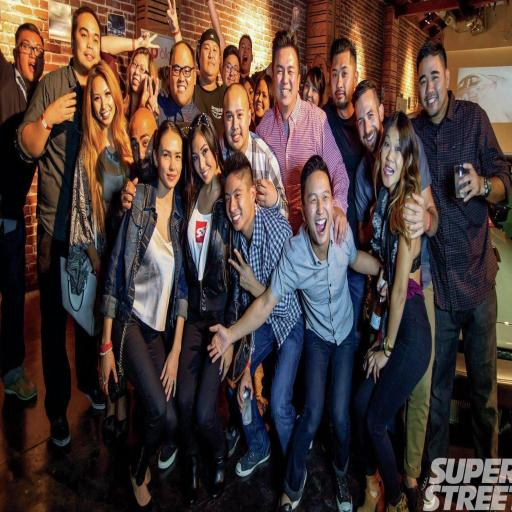person: (209, 156, 380, 511), (413, 42, 510, 463), (18, 7, 100, 446), (101, 122, 187, 510), (355, 112, 431, 511), (177, 114, 242, 505), (257, 31, 348, 243), (0, 23, 44, 400), (67, 61, 131, 296), (404, 136, 438, 510), (236, 292, 303, 476), (221, 84, 289, 217), (323, 38, 364, 248), (157, 41, 200, 125), (194, 29, 223, 134), (124, 47, 157, 121), (129, 109, 156, 184), (254, 74, 275, 126), (303, 67, 325, 108), (312, 55, 329, 106), (222, 45, 240, 90), (241, 76, 255, 131), (239, 34, 253, 80)
